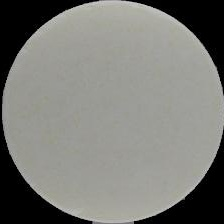0378-3547: (0, 0, 224, 224)
